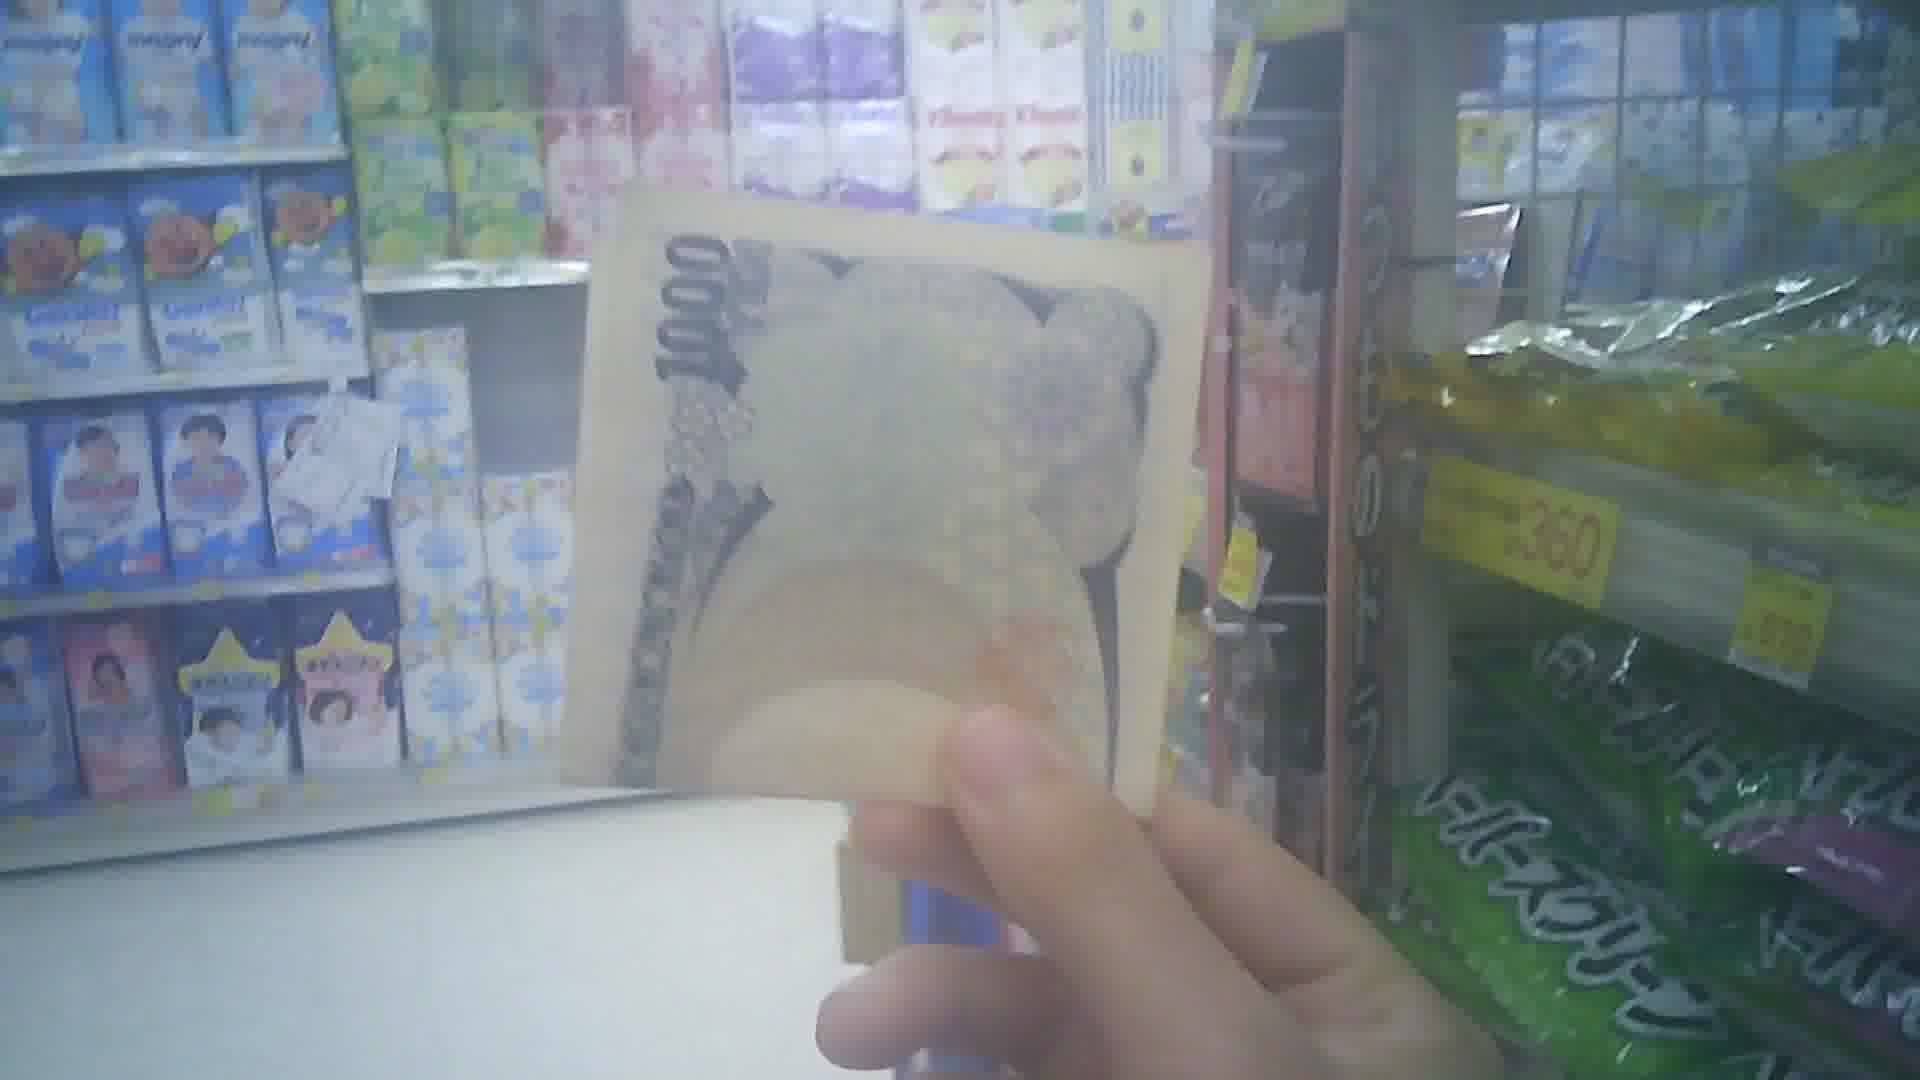1,000 Yen: (568, 175, 1168, 837)
